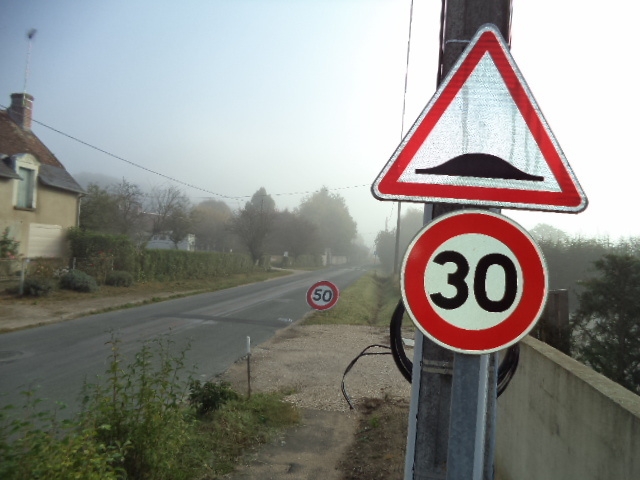Speed_limit_30km: (400, 211, 550, 354)
Speed_limit_50km: (307, 279, 338, 311)
